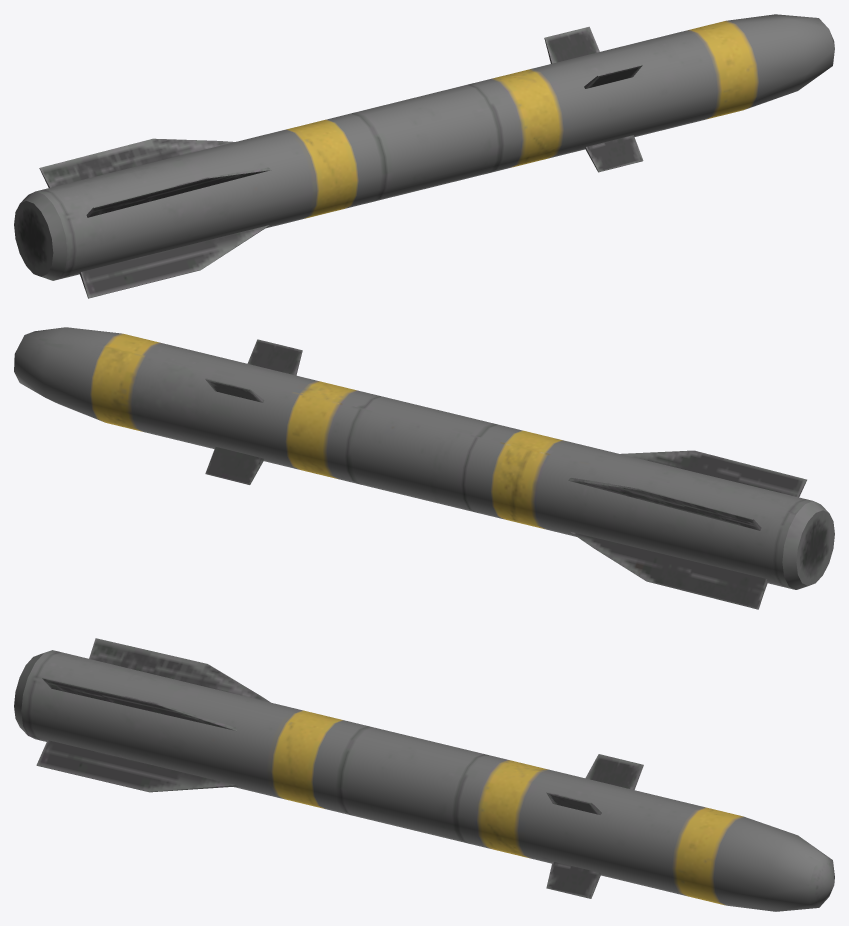
File: missile.glb
3 renders of one model, top to bottom at view 1: azimuth 30°, elevation 25°; view 2: azimuth 150°, elevation 25°; view 3: azimuth 330°, elevation 25°, orthographic.
Parts seen in each view (by area): view 1: enm_gunhelicoptersmall_item_mat; view 2: enm_gunhelicoptersmall_item_mat; view 3: enm_gunhelicoptersmall_item_mat.
Part boxes in pixels (<box>): enm_gunhelicoptersmall_item_mat: <box>14,14,834,298</box>; enm_gunhelicoptersmall_item_mat: <box>14,327,834,609</box>; enm_gunhelicoptersmall_item_mat: <box>14,638,834,911</box>.
Size of the model in its own units: 1.62 by 0.1888 by 0.1914.
1 material, 1 textured.
